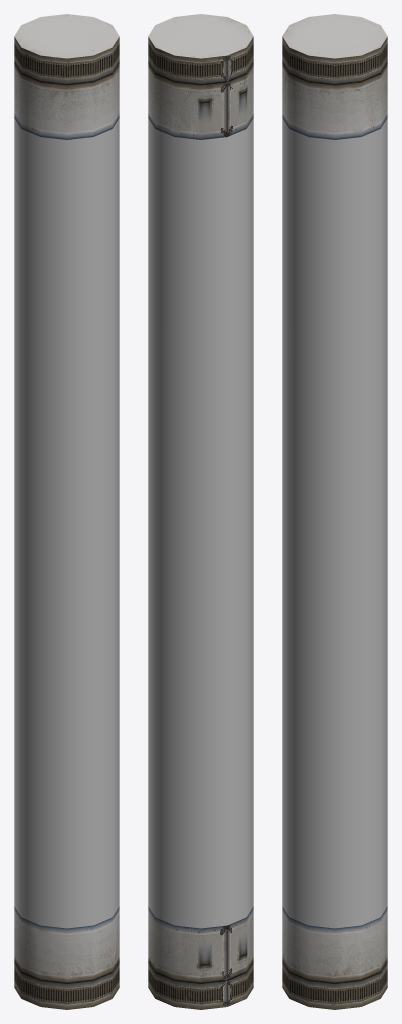
The model's file is scifi_pipe_small_5.FBX.
3 views of the same model, side by side, from view 1: azimuth 30°, elevation 25°; view 2: azimuth 210°, elevation 25°; view 3: azimuth 330°, elevation 25° (orthographic).
Parts seen in each view (by area): view 1: Cylinder027; view 2: Cylinder027; view 3: Cylinder027.
Part boxes in pixels (box(x1,y1,x2,y2)): Cylinder027: box(14, 14, 119, 1009); Cylinder027: box(148, 14, 253, 1009); Cylinder027: box(282, 14, 387, 1009).
Size of the model in its own units: 25.53 by 254 by 25.53.
